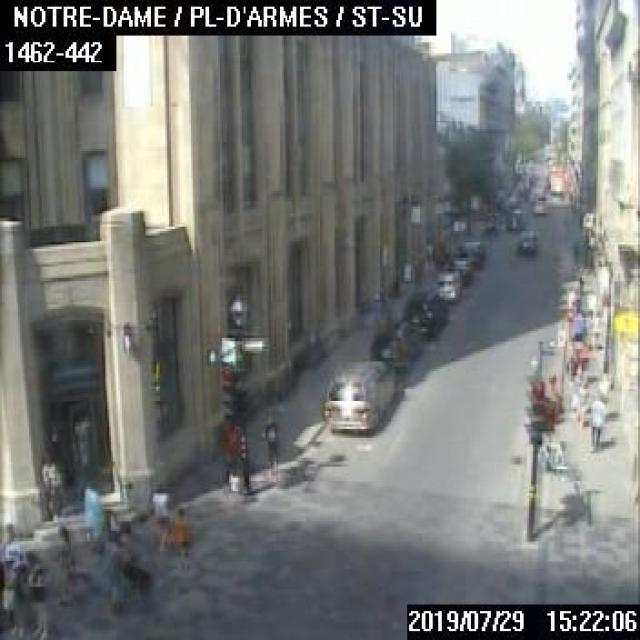pedestrian: (16, 548, 49, 638), (54, 524, 91, 602), (162, 502, 189, 571), (40, 449, 60, 515), (82, 477, 101, 544), (218, 414, 235, 484), (258, 411, 276, 476), (588, 392, 605, 448), (0, 522, 18, 562)
vehicle: (322, 357, 392, 433), (366, 318, 421, 370), (399, 291, 446, 336), (430, 268, 464, 302), (446, 253, 471, 280), (458, 240, 482, 263), (516, 227, 536, 251)
